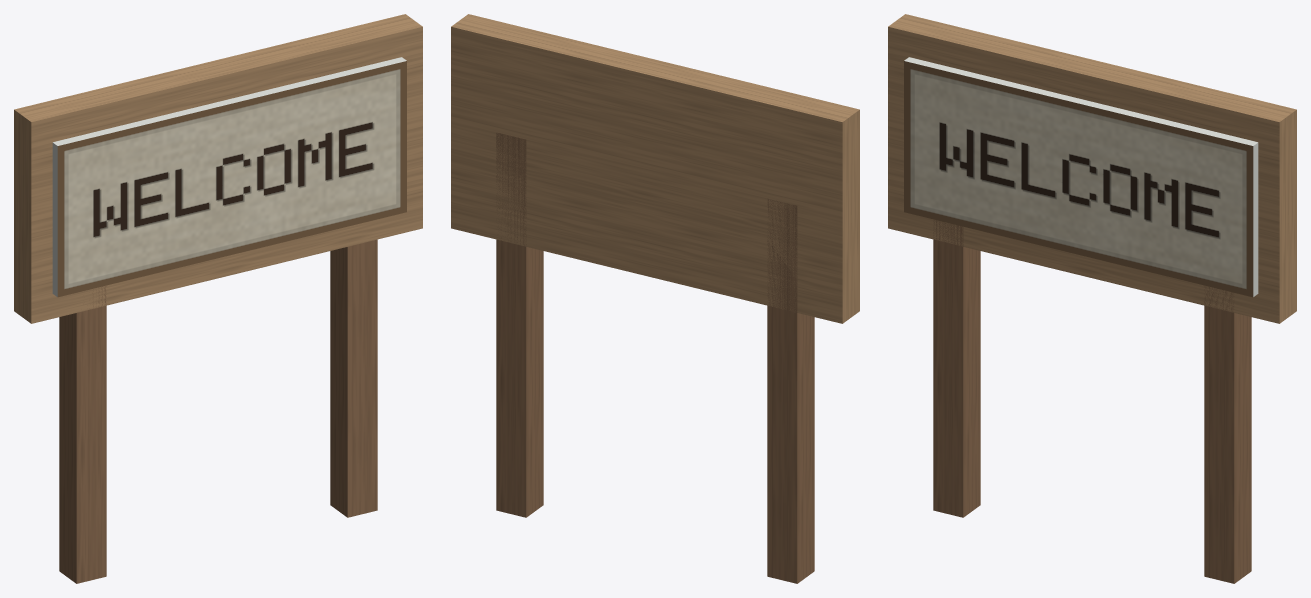
Rendered from welcomeSign.glb.
The picture shows the model from 3 angles, left to right: view 1: azimuth 30°, elevation 25°; view 2: azimuth 150°, elevation 25°; view 3: azimuth 330°, elevation 25°; orthographic projection.
Visible parts, largest first — view 1: welcomeSign; view 2: welcomeSign; view 3: welcomeSign.
Part boxes in pixels (bbox=[...]): welcomeSign: bbox=[14, 14, 422, 583]; welcomeSign: bbox=[451, 14, 859, 583]; welcomeSign: bbox=[888, 14, 1296, 583].
Bounding box in the file's own units: 1.3 × 1.5 × 0.13.
4 materials, 3 textured.
